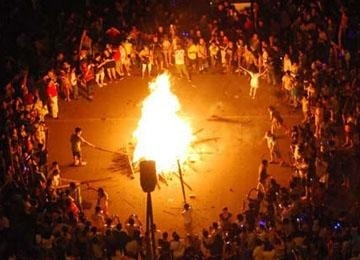fire: (130, 71, 197, 175)
